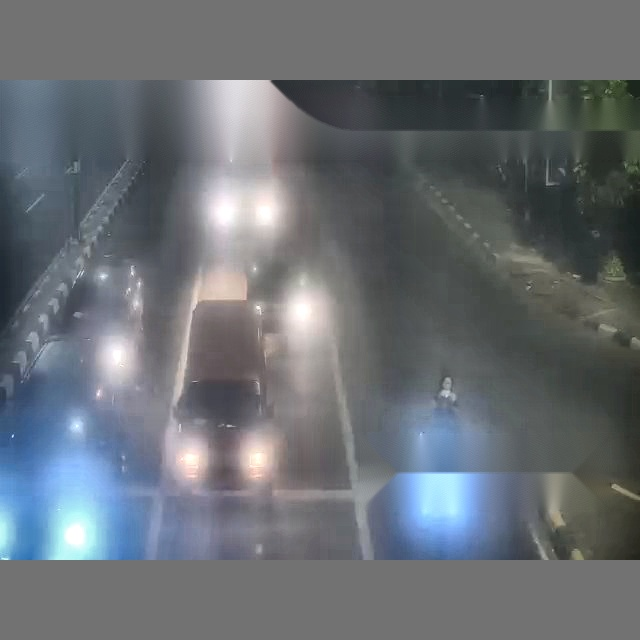Bis: (0, 82, 148, 402)
Mobil: (0, 336, 152, 558)
